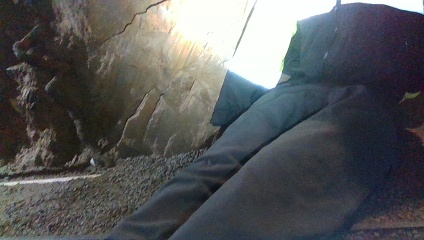manikin: (106, 0, 421, 235)
